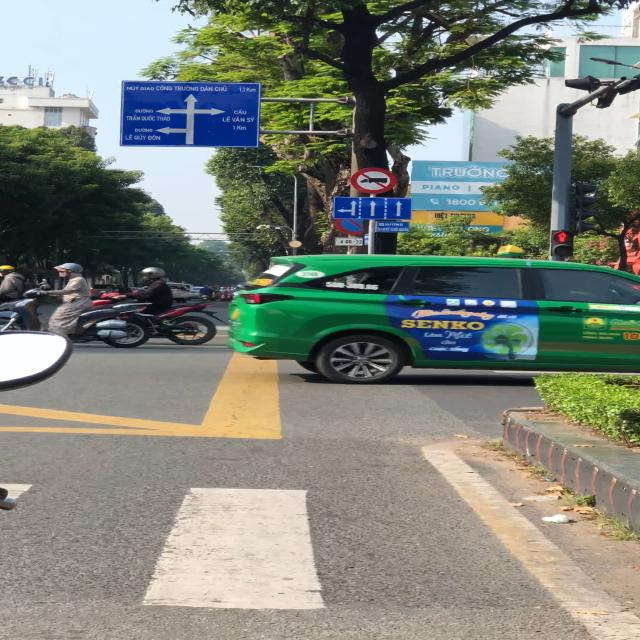Bien bao cam xe so-mi ro-mooc: (349, 166, 404, 195)
